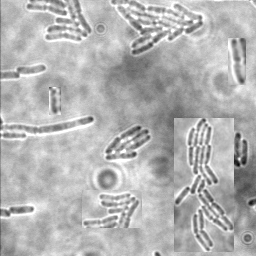Dividing: (1, 114, 95, 133), (228, 38, 246, 85), (8, 204, 35, 215)
Microcolony: (174, 118, 234, 252), (109, 1, 205, 56), (25, 1, 94, 44), (82, 190, 142, 228), (103, 124, 150, 160), (16, 63, 48, 74)
Rod: (49, 87, 61, 115)
